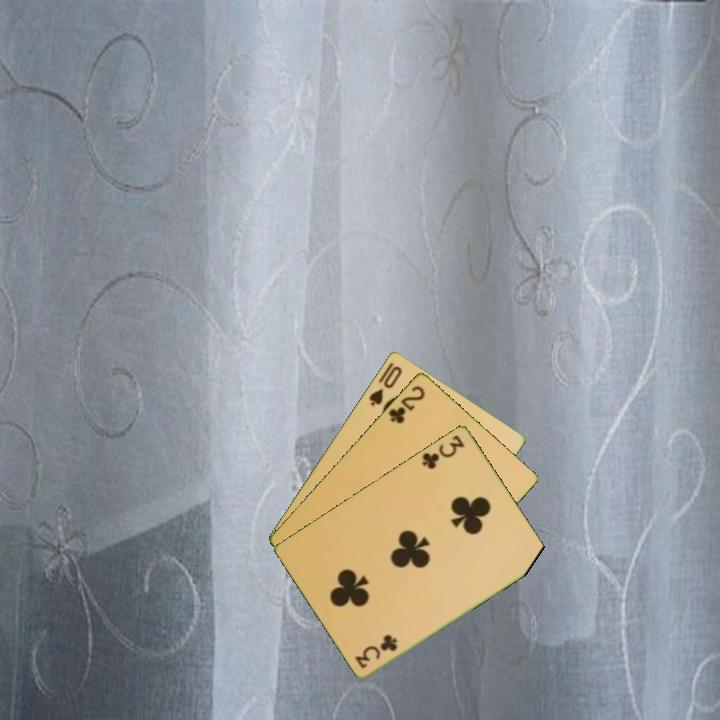10s: (365, 362, 405, 409)
2c: (385, 382, 428, 426)
3c: (418, 431, 467, 472), (352, 632, 400, 671)
